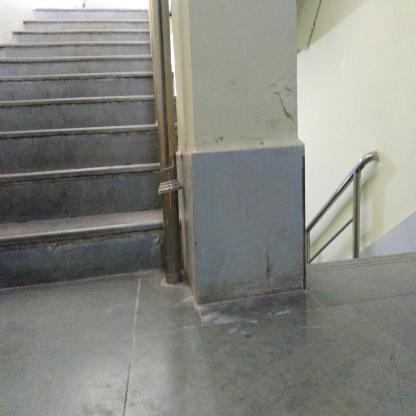stairs: (33, 5, 145, 288)
